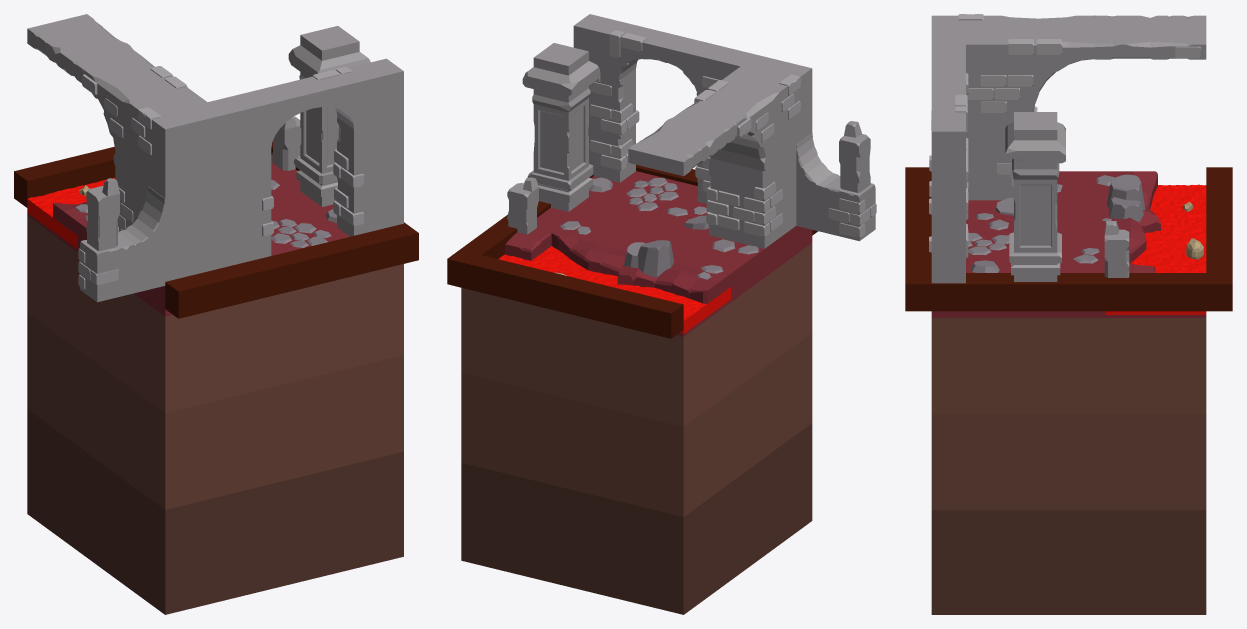
File: Plano1 1.fbx
3 views of the same model, side by side, from view 1: azimuth 30°, elevation 25°; view 2: azimuth 150°, elevation 25°; view 3: azimuth 270°, elevation 25° (orthographic). The views are drawn at different scales.
Parts seen in each view (by area): view 1: Plane.050, Plane.001, Plane.004, Cube, Plane.007, Muro.001, Plane, Totem, Plane.008, Plane.006; view 2: Plane.050, Plane.001, Plane, Plane.007, Plane.004, Cube, Muro.001, Plane.008, Cube.2272, Totem, Plane.006, Plane.011; view 3: Plane.050, Plane.001, Cube.2272, Plane, Plane.007, Plane.004, Cube, Plane.008, Plane.006, Plane.011, Plane.003.
Part boxes in pixels (bbox=[...]): Plane.050: bbox=[27, 216, 403, 614]; Plane.001: bbox=[27, 14, 224, 281]; Plane.004: bbox=[208, 58, 403, 267]; Cube: bbox=[14, 147, 418, 318]; Plane.007: bbox=[288, 26, 370, 206]; Muro.001: bbox=[80, 186, 165, 302]; Plane: bbox=[27, 154, 349, 316]; Totem: bbox=[86, 178, 119, 251]; Plane.008: bbox=[27, 177, 115, 249]; Plane.006: bbox=[272, 116, 301, 170]; Plane.050: bbox=[461, 243, 812, 614]; Plane.001: bbox=[628, 54, 812, 248]; Plane: bbox=[505, 171, 812, 336]; Plane.007: bbox=[522, 43, 599, 211]; Plane.004: bbox=[573, 14, 755, 203]; Cube: bbox=[447, 164, 817, 338]; Muro.001: bbox=[796, 133, 875, 241]; Plane.008: bbox=[498, 246, 730, 333]; Cube.2272: bbox=[447, 173, 593, 289]; Totem: bbox=[839, 121, 870, 192]; Plane.006: bbox=[507, 177, 538, 234]; Plane.011: bbox=[637, 240, 673, 277]; Plane.050: bbox=[931, 318, 1206, 614]; Plane.001: bbox=[931, 15, 1206, 200]; Cube.2272: bbox=[931, 273, 1232, 311]; Plane: bbox=[931, 171, 1206, 317]; Plane.007: bbox=[1005, 112, 1065, 281]; Plane.004: bbox=[931, 44, 965, 283]; Cube: bbox=[905, 167, 1232, 311]; Plane.008: bbox=[1105, 184, 1206, 314]; Plane.006: bbox=[1104, 221, 1129, 277]; Plane.011: bbox=[1107, 174, 1145, 210]; Plane.003: bbox=[1109, 197, 1143, 221].
Bounding box in the file's own units: 1047 × 1559 × 955.
